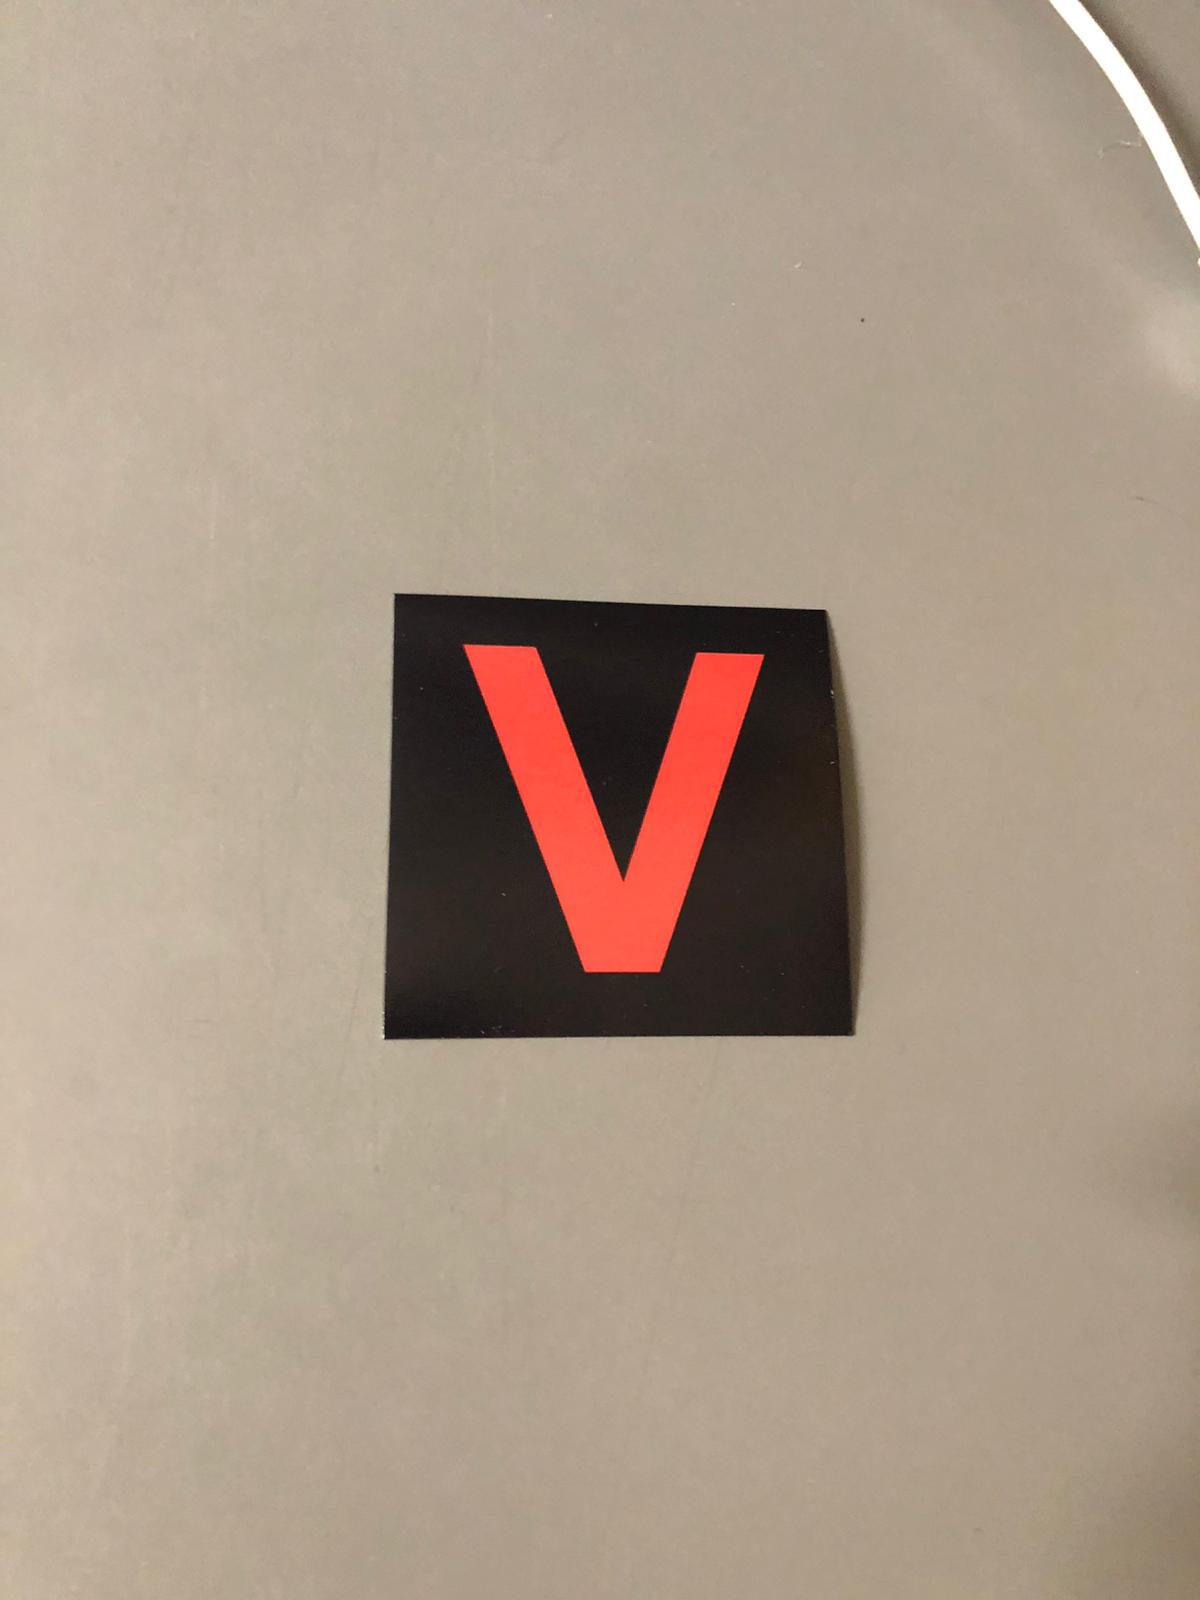V: (389, 609, 817, 1012)
